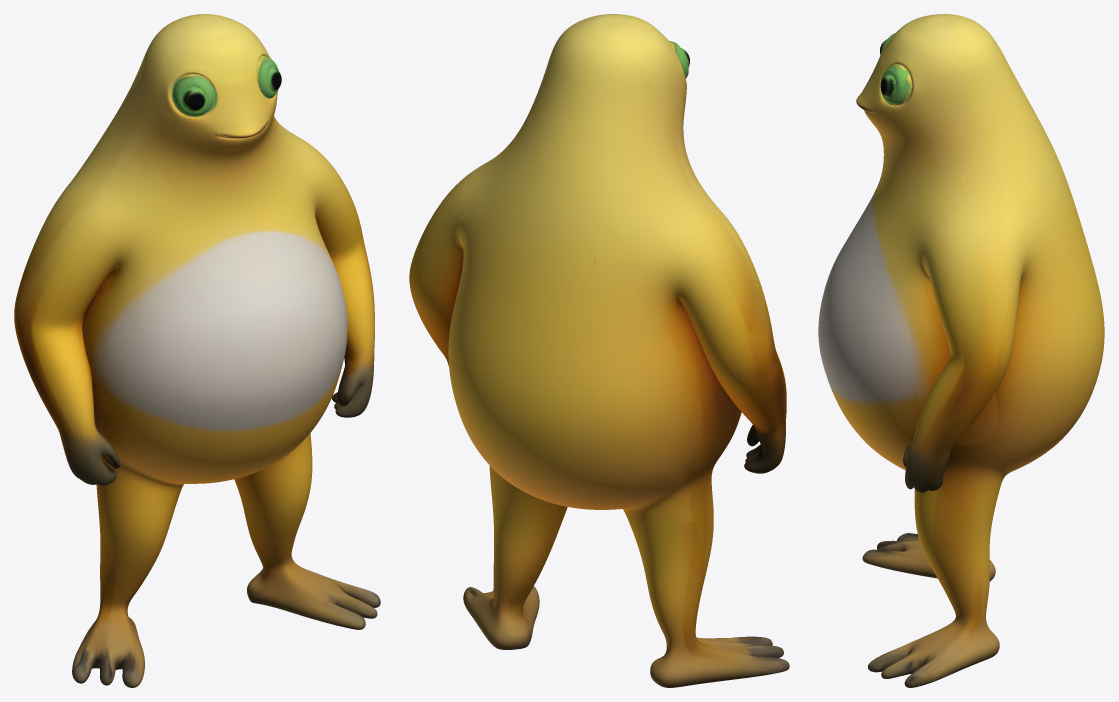
Rendered from naiwa.glb.
3 views of the same model, side by side, from view 1: azimuth 30°, elevation 25°; view 2: azimuth 150°, elevation 25°; view 3: azimuth 270°, elevation 25° (orthographic). The views are drawn at different scales.
Parts seen in each view (by area): view 1: naiwa; view 2: naiwa; view 3: naiwa.
Boxes of the visible parts, x1,y1,x2,y2 form: naiwa: (14,14,380,687); naiwa: (409,14,789,687); naiwa: (818,14,1104,687).
Size of the model in its own units: 1.3 by 2.2 by 0.9591.
Materials: 1 (1 with a texture image).
